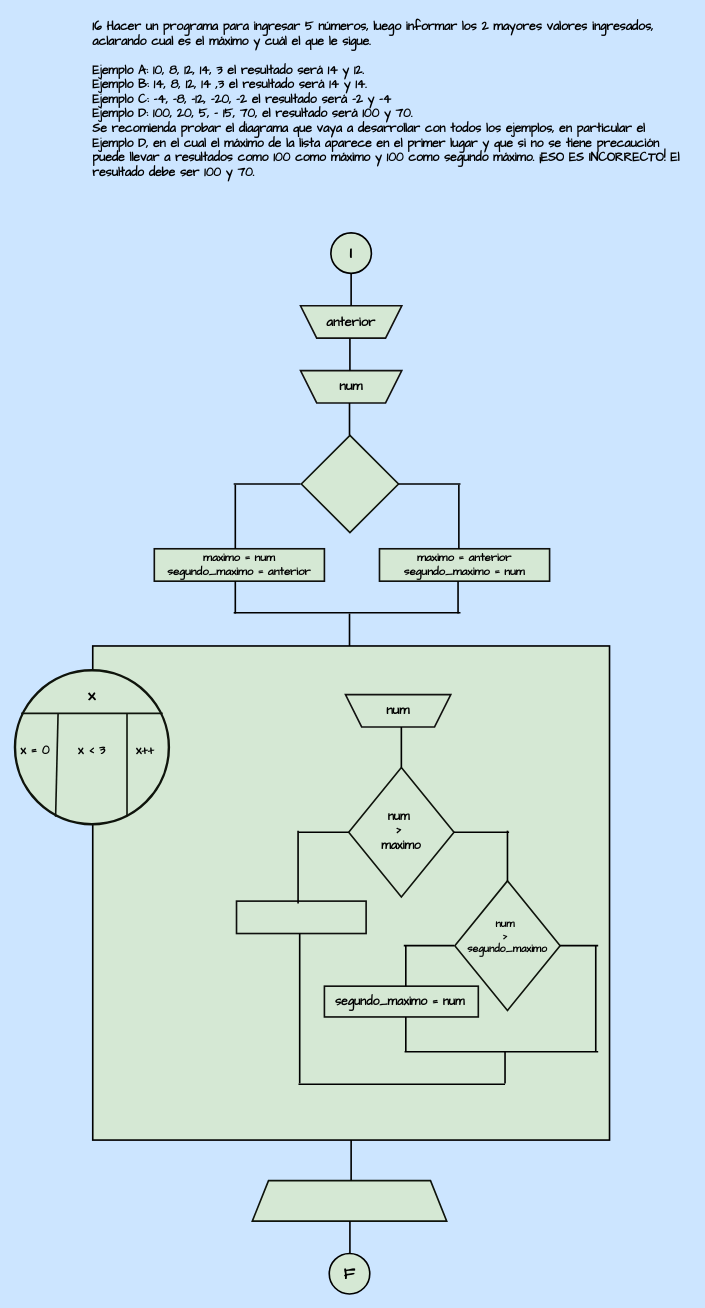
Some shapes in this 705 by 1308 pixel diagram are drawn without their labels. Here are the shapes that lost their labels. From the top down, the centre of each, then its label:
(349,483): num > anterior
(301,917): segundo_maximo maximo = num
(349,1200): maximo, segundo_maximo
